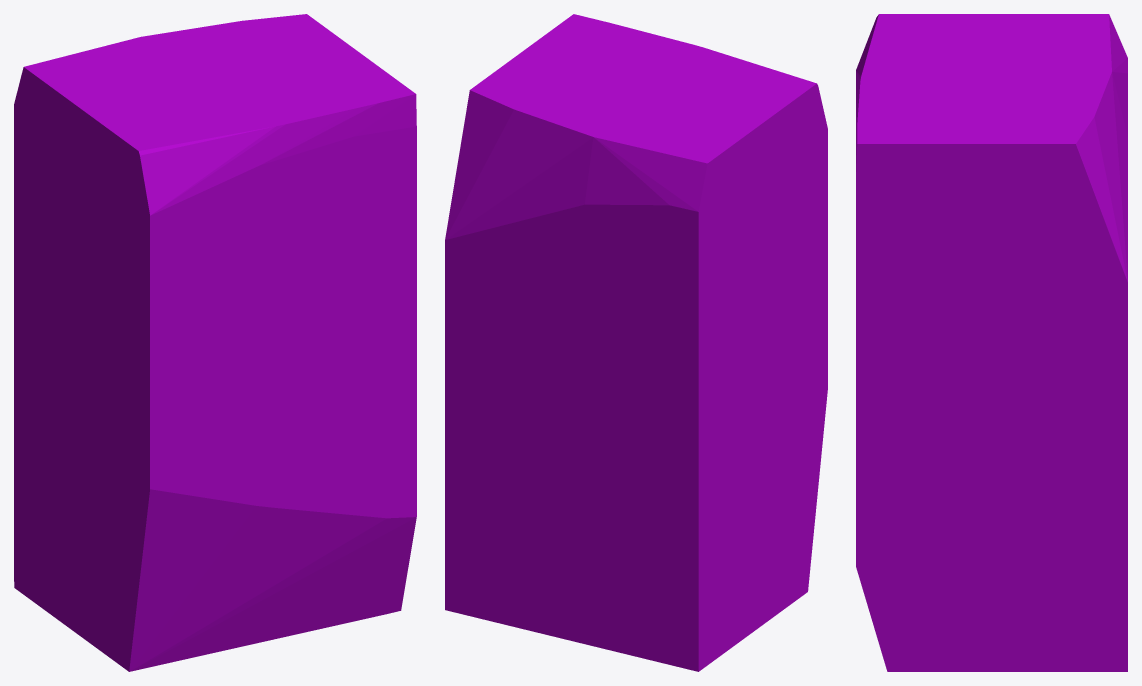
The picture shows the model from 3 angles, left to right: view 1: azimuth 30°, elevation 25°; view 2: azimuth 150°, elevation 25°; view 3: azimuth 270°, elevation 25°; orthographic projection. The views are drawn at different scales.
Bounding box in the file's own units: 2.64 × 5 × 2.33.
